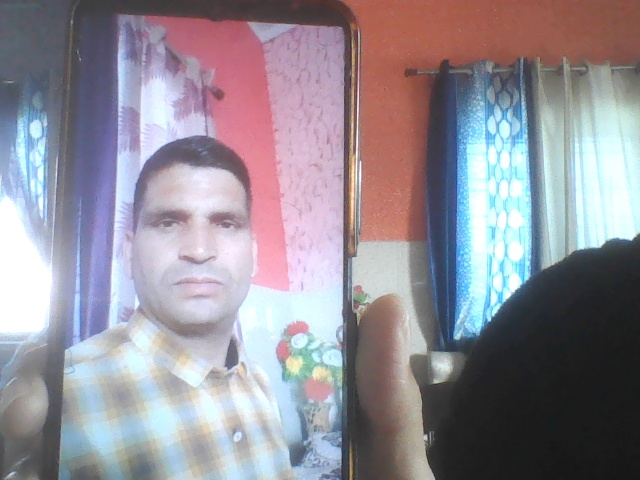fake: (118, 122, 268, 334)
